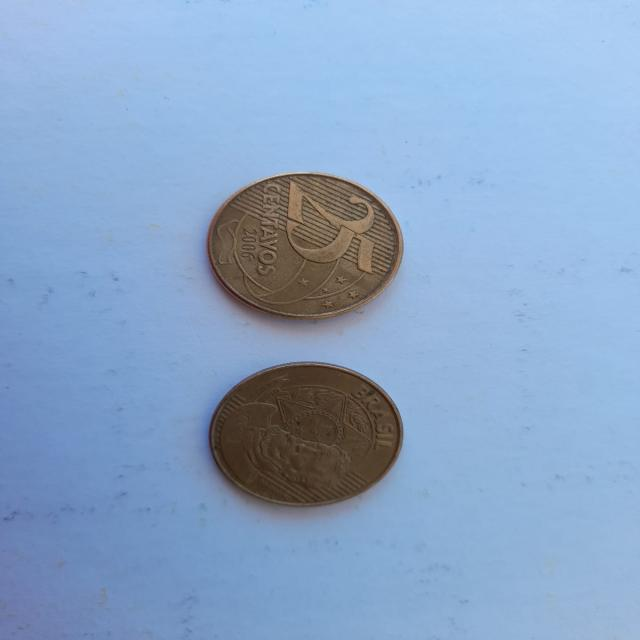25 cents: (203, 170, 408, 328), (205, 360, 414, 514)
